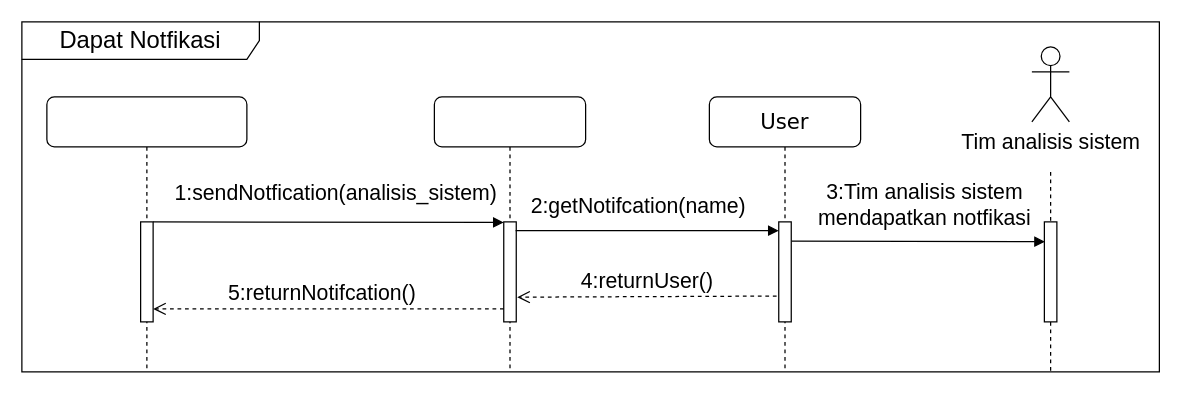
This 1181x394 diagram has some shape labels left out. Each missing label, with the centre of its shape:
Laporan Kasus: pixel 146 234
Notification: pixel 509 234
